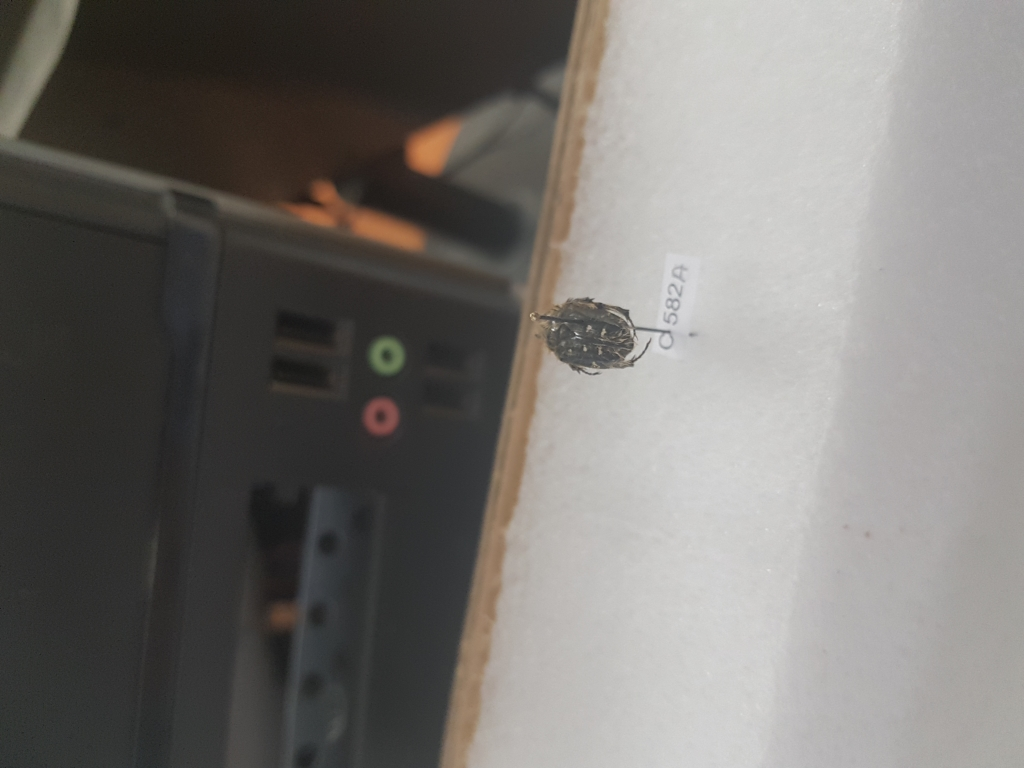Tropinota_hirta: (530, 287, 652, 382)
